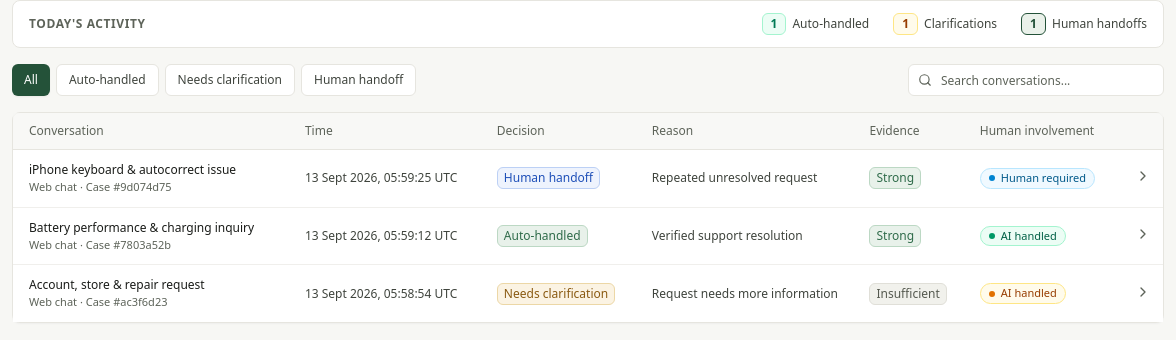
AuditLogView › filters items when clicking decision filter buttons
Click the button "Auto-handled": (107,80) [56, 64, 159, 96]
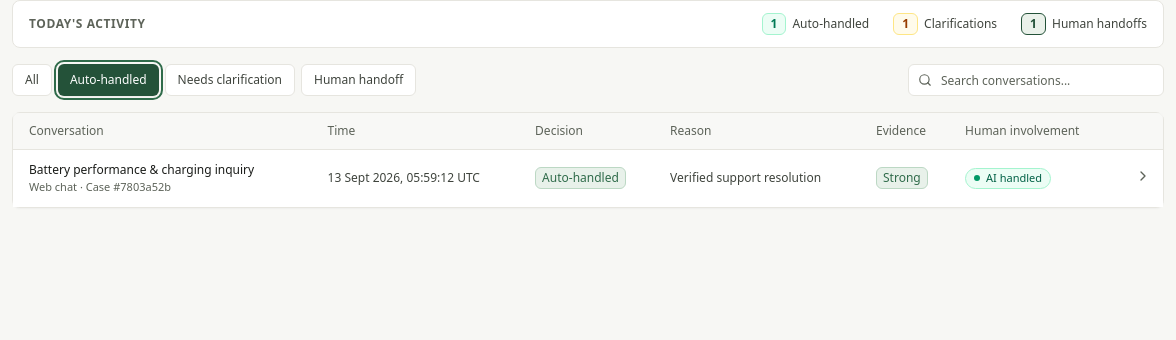
Expected: the text "Battery performance & charging inquiry" is shown, [29, 161, 254, 178]
Expected: the text "iPhone keyboard & autocorrect issue" is gone
Expected: the text "Account, store & repair request" is gone
Click the button "Human handoff": (359,80) [301, 64, 416, 96]
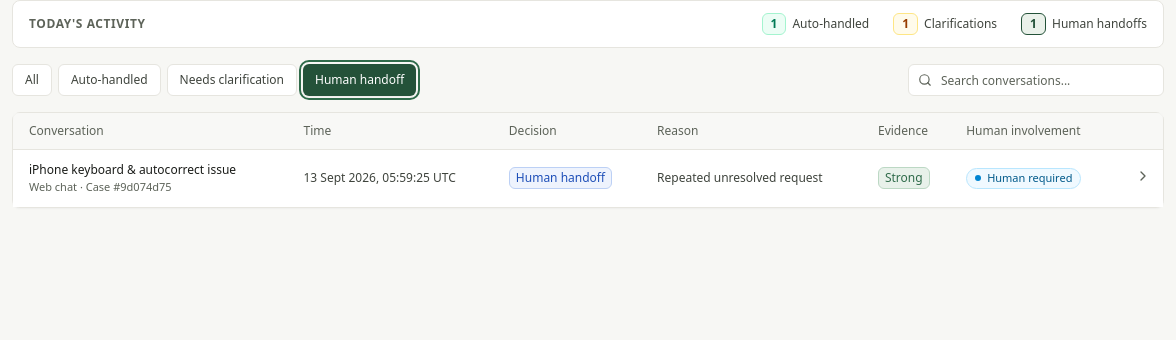
Expected: the text "iPhone keyboard & autocorrect issue" is shown, [29, 161, 236, 178]
Expected: the text "Battery performance & charging inquiry" is gone
